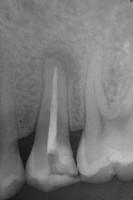Furcation Involvement: (40, 45, 80, 83)
